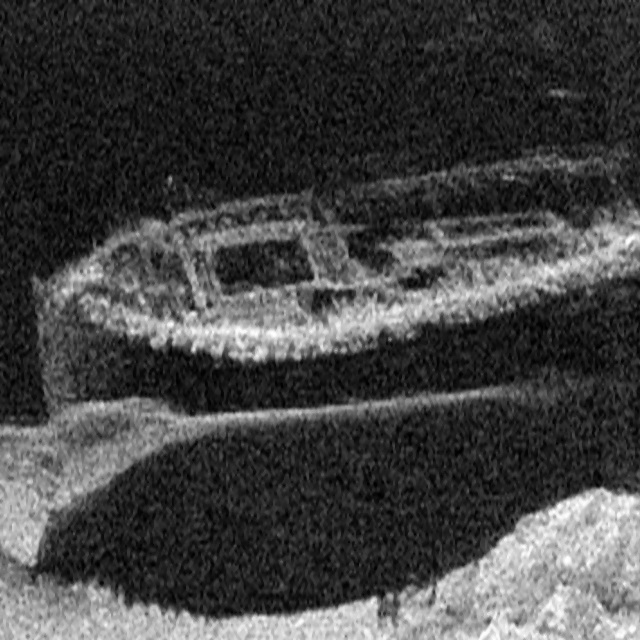Ship: (23, 117, 640, 532)
